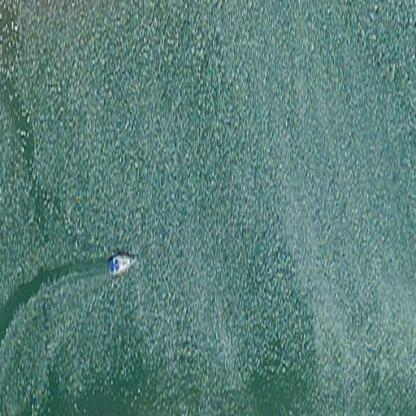ship: (97, 246, 146, 280)
